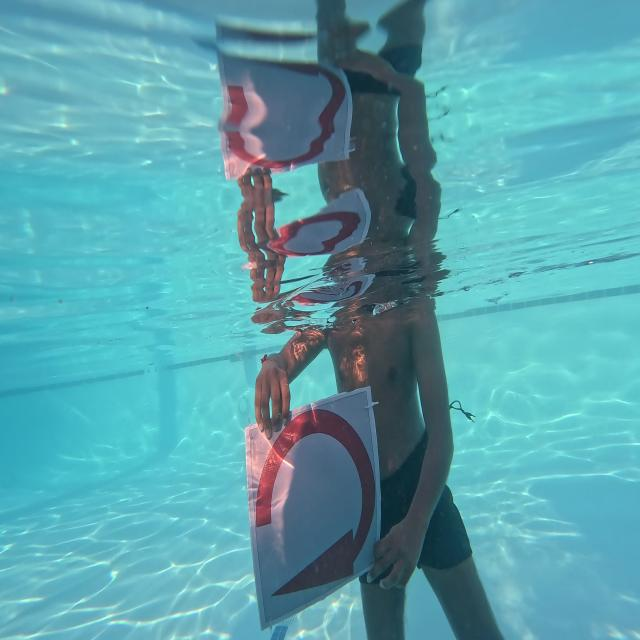red_side: (235, 396, 384, 625)
